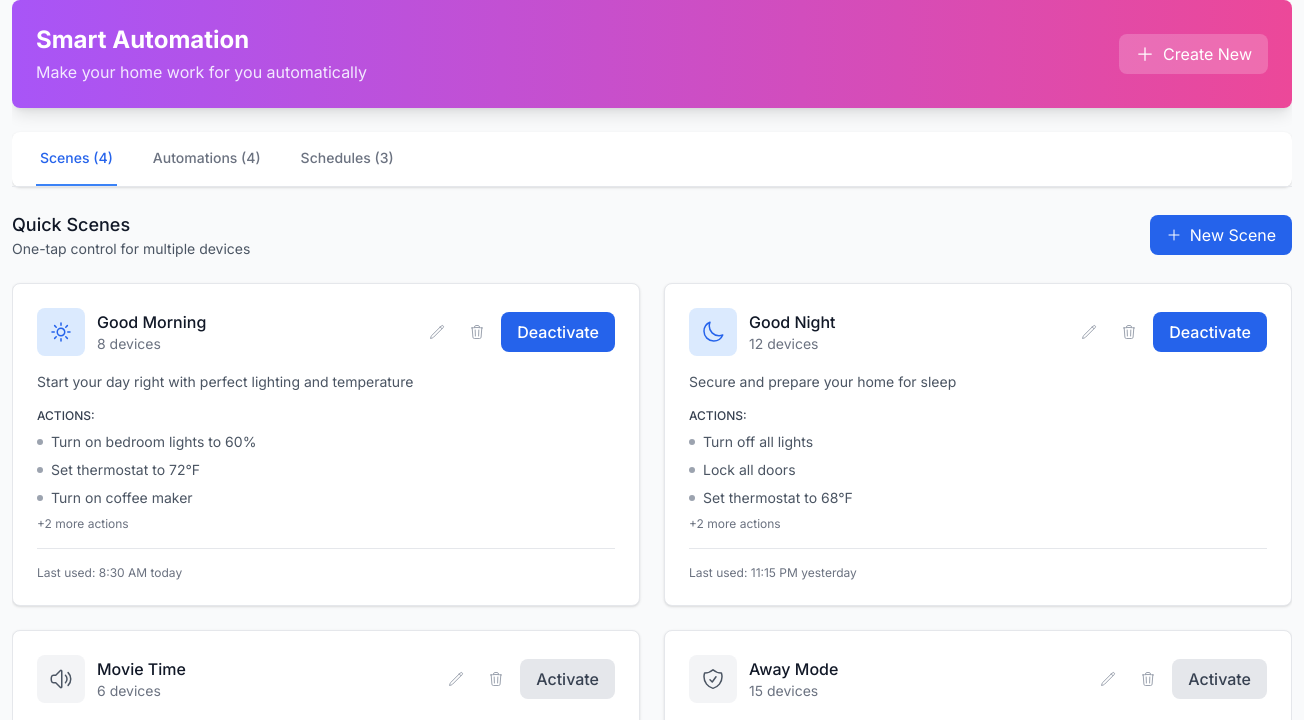
Test: ConsumerAutomation › Tab Navigation › switches to schedules tab when clicked
Click the button "Schedules (3)".
click(347, 159)  # box [297,132,398,186]
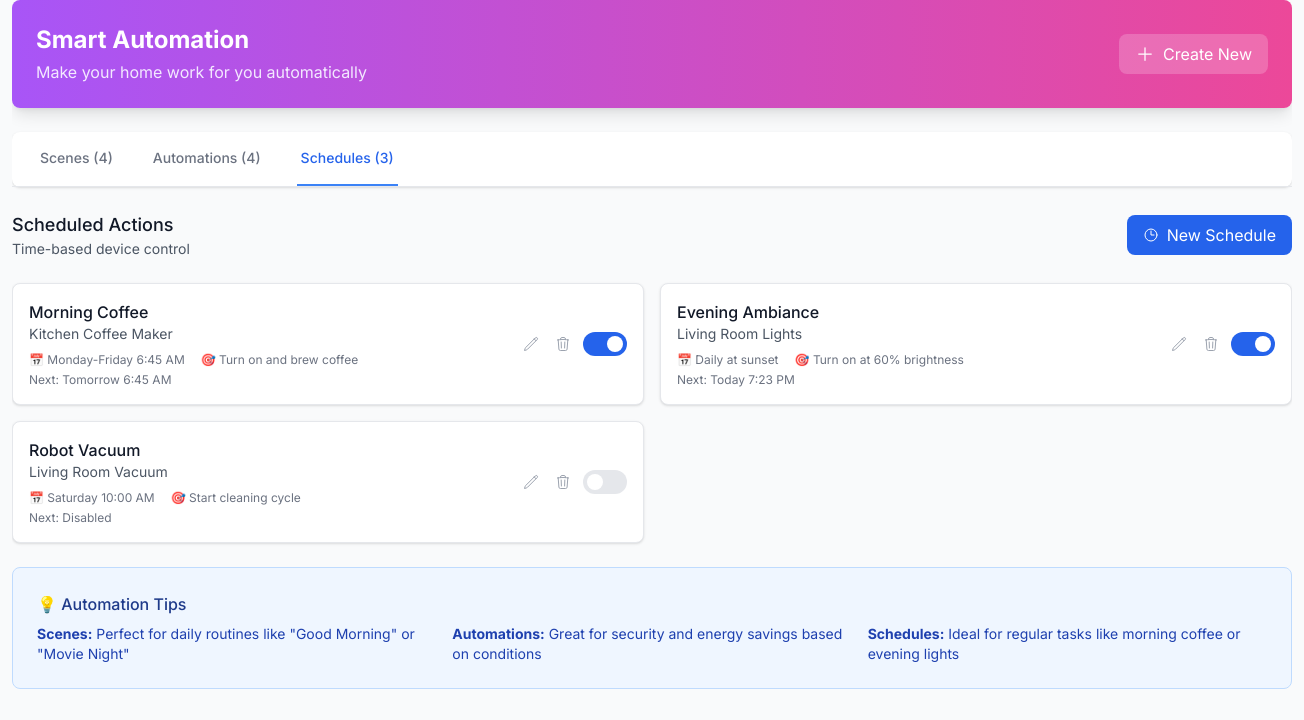
Expected: the heading "Scheduled Actions" is shown, [12,211,190,239]
Expected: the text "Time-based device control" is shown, [12,239,190,259]
